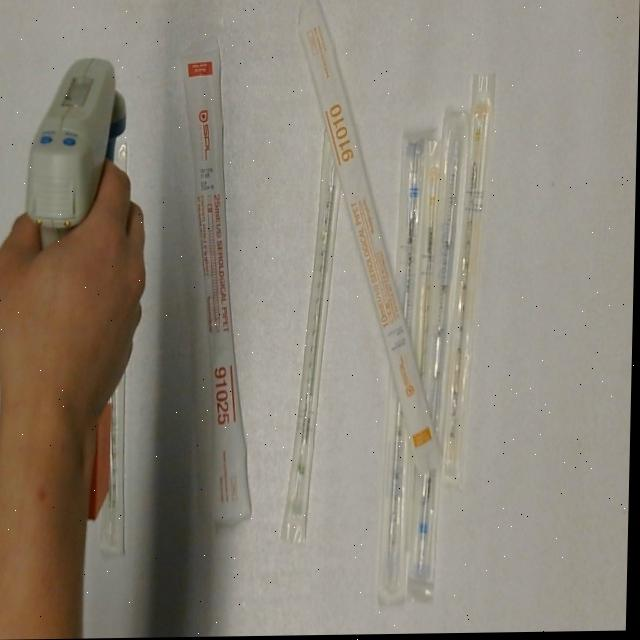Pipette Controller: (18, 48, 126, 526)
Serelogical Pipet 1 mL: (458, 66, 494, 477), (410, 139, 451, 404)
Serelogical Pipet 10 mL: (287, 0, 455, 480)
Serelogical Pipet 2 mL: (279, 122, 353, 550)
Serelogical Pipet 25 mL: (173, 32, 278, 532)
Serelogical Pipet 5 mL: (411, 110, 471, 587), (378, 127, 426, 609)
